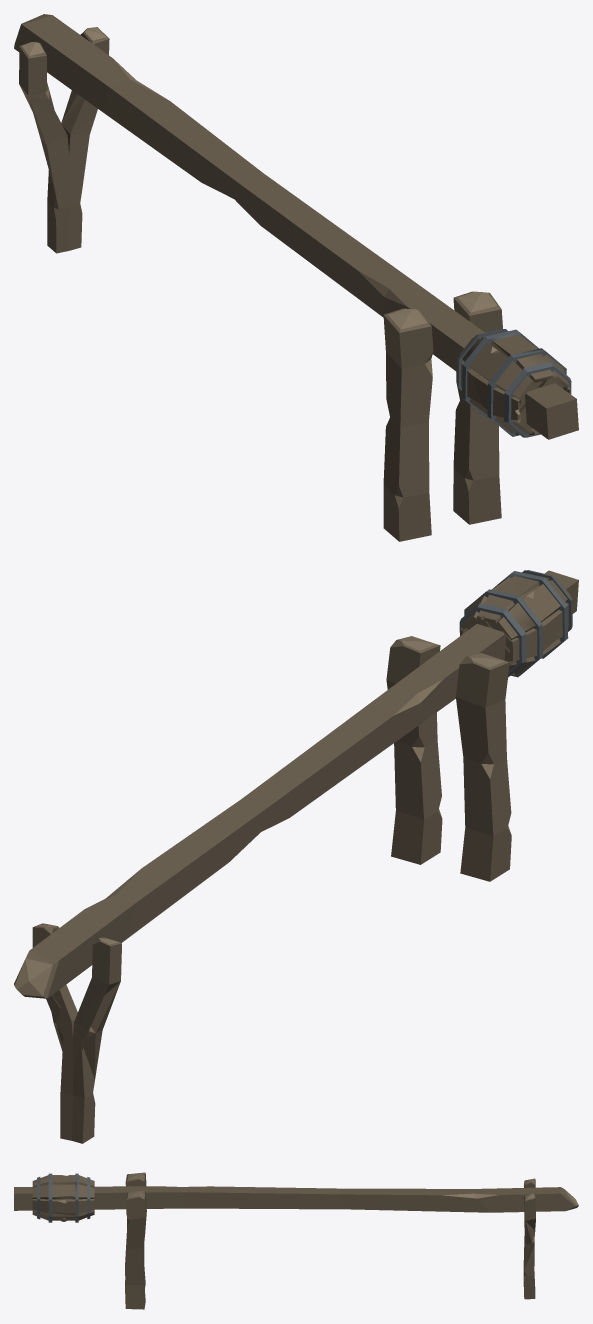
Rendered from barrier_western.fbx.
3 renders of one model, top to bottom at view 1: azimuth 30°, elevation 25°; view 2: azimuth 150°, elevation 25°; view 3: azimuth 270°, elevation 25°, orthographic. The views are drawn at different scales.
Parts seen in each view (by area): view 1: bariier_western_b, bariier_western; view 2: bariier_western_b, bariier_western; view 3: bariier_western_b, bariier_western.
Part boxes in pixels (x1,y1,x2,y2): bariier_western_b: [14, 14, 578, 439]; bariier_western: [19, 27, 502, 541]; bariier_western_b: [14, 570, 578, 998]; bariier_western: [32, 636, 511, 1143]; bariier_western_b: [14, 1173, 578, 1222]; bariier_western: [125, 1172, 535, 1309].
Bounding box in the file's own units: 123 × 249 × 1066.
1 material, 1 textured.
